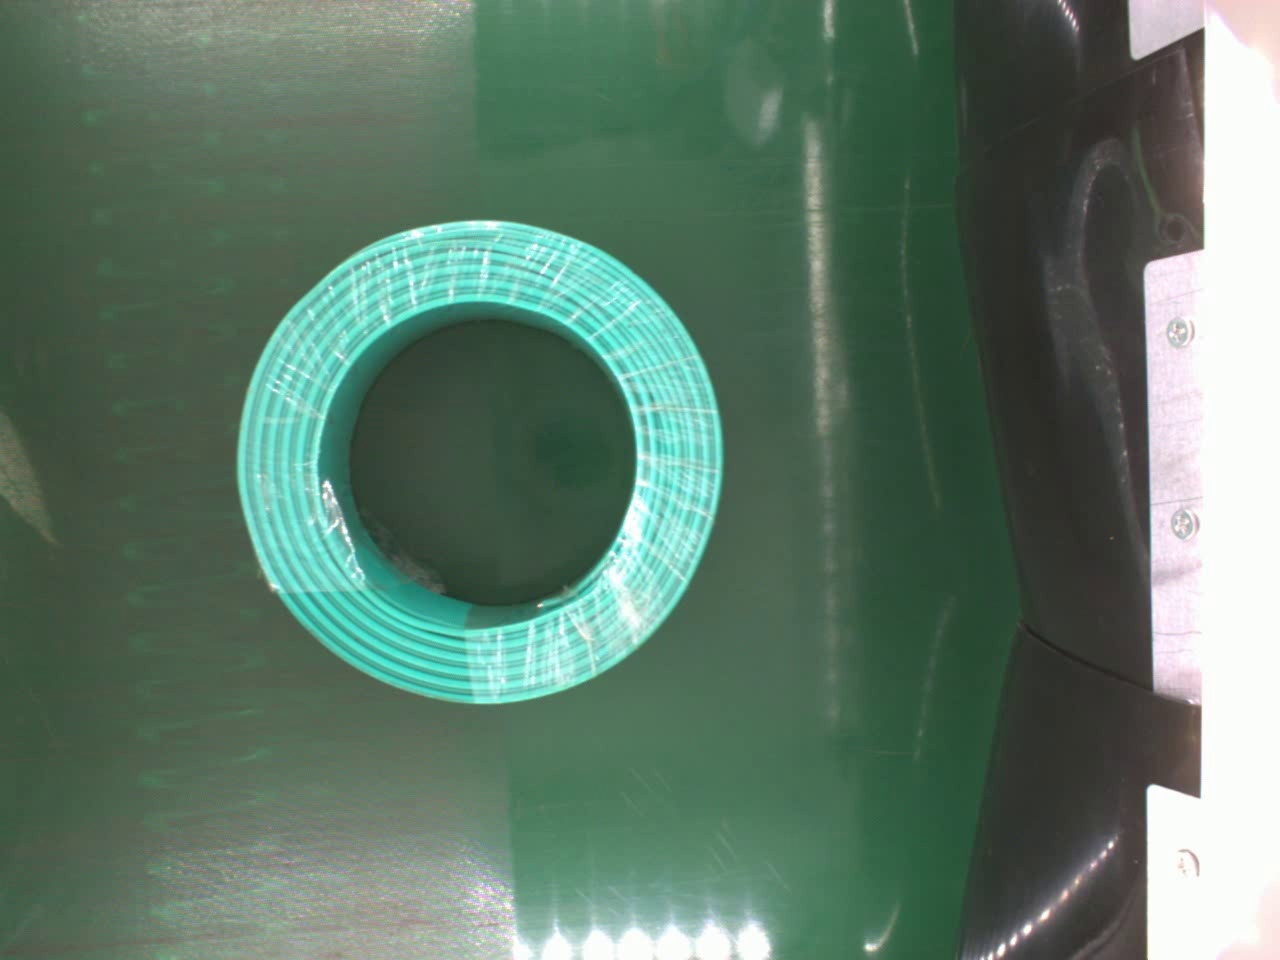green: (233, 213, 725, 708)
